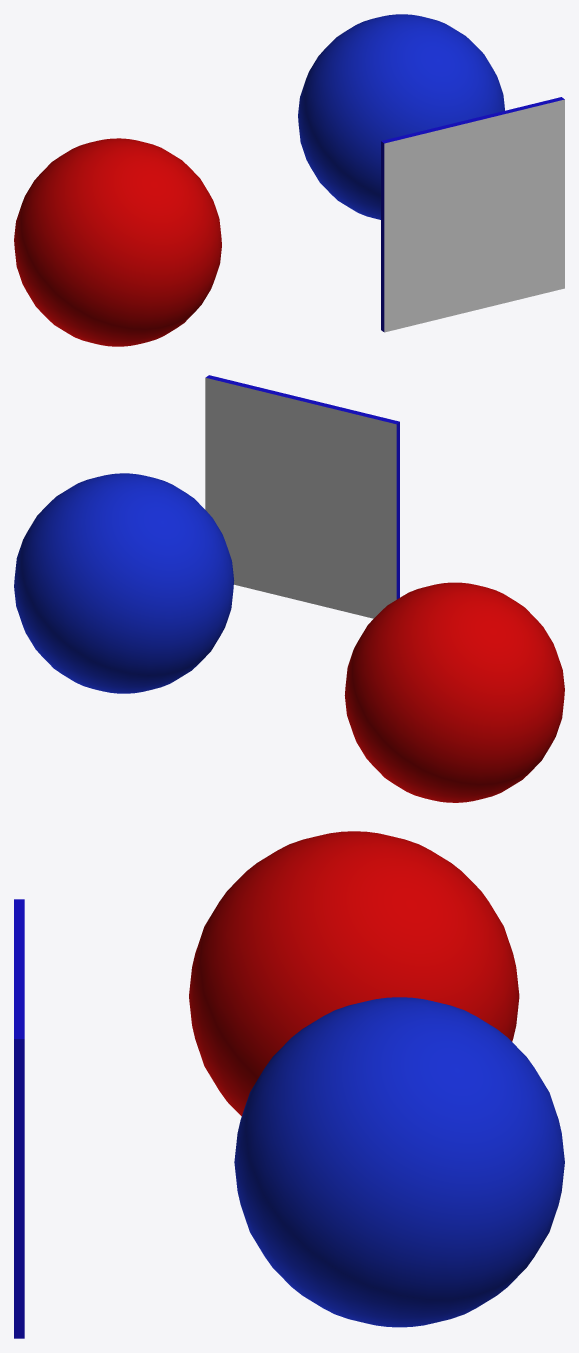
Rendered from transparent.obj.
3 views of the same model, one above another, from view 1: azimuth 30°, elevation 25°; view 2: azimuth 150°, elevation 25°; view 3: azimuth 270°, elevation 25° (orthographic). The views are drawn at different scales.
Parts seen in each view (by area): view 1: Cube.002, Sphere.001, Sphere, Cube; view 2: Sphere, Sphere.001, Cube.001, Cube; view 3: Sphere, Sphere.001, Cube.
Part boxes in pixels (<box>): Cube.002: <box>384,99,564,332</box>; Sphere.001: <box>14,138,221,346</box>; Sphere: <box>298,14,504,219</box>; Cube: <box>381,97,564,331</box>; Sphere: <box>14,473,234,693</box>; Sphere.001: <box>344,582,564,802</box>; Cube.001: <box>205,377,396,618</box>; Cube: <box>206,375,399,599</box>; Sphere: <box>234,997,564,1327</box>; Sphere.001: <box>189,831,519,1116</box>; Cube: <box>14,899,24,1338</box>.
Size of what is drawn, in the model's own units: 5.3 by 2.47 by 3.33.
